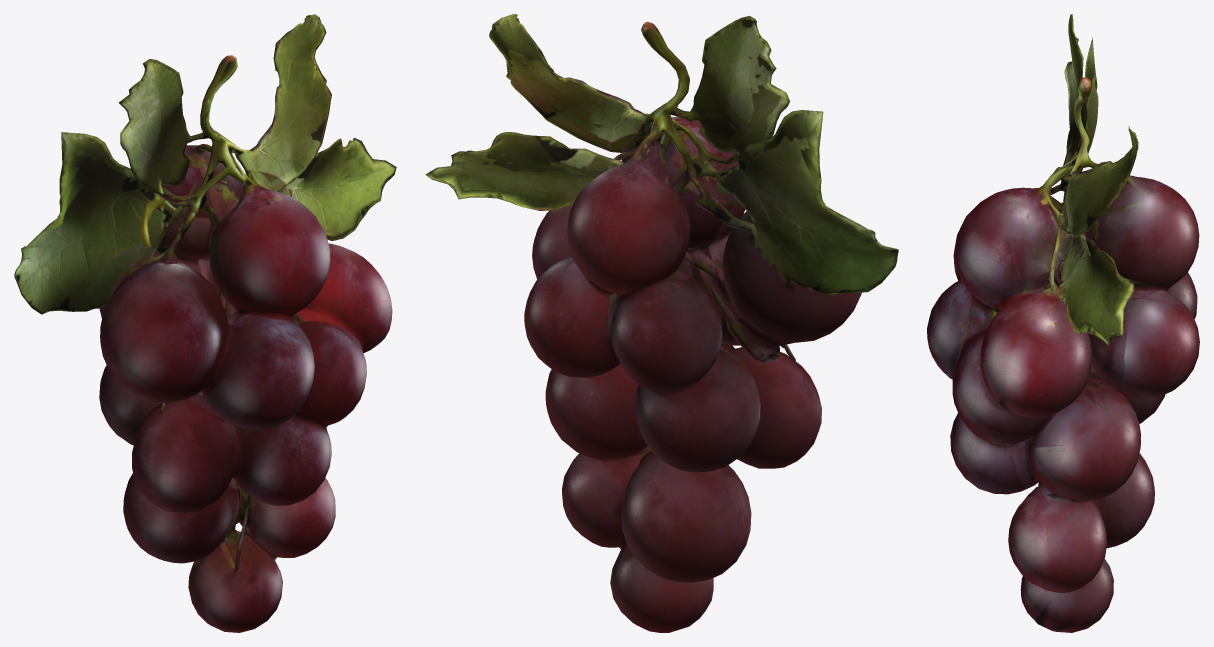
The model's file is grape.glb.
3 views of the same model, side by side, from view 1: azimuth 30°, elevation 25°; view 2: azimuth 150°, elevation 25°; view 3: azimuth 270°, elevation 25° (orthographic). The views are drawn at different scales.
Size of the model in its own units: 1.44 by 1.97 by 0.8461.
Materials: 1 (1 with a texture image).
